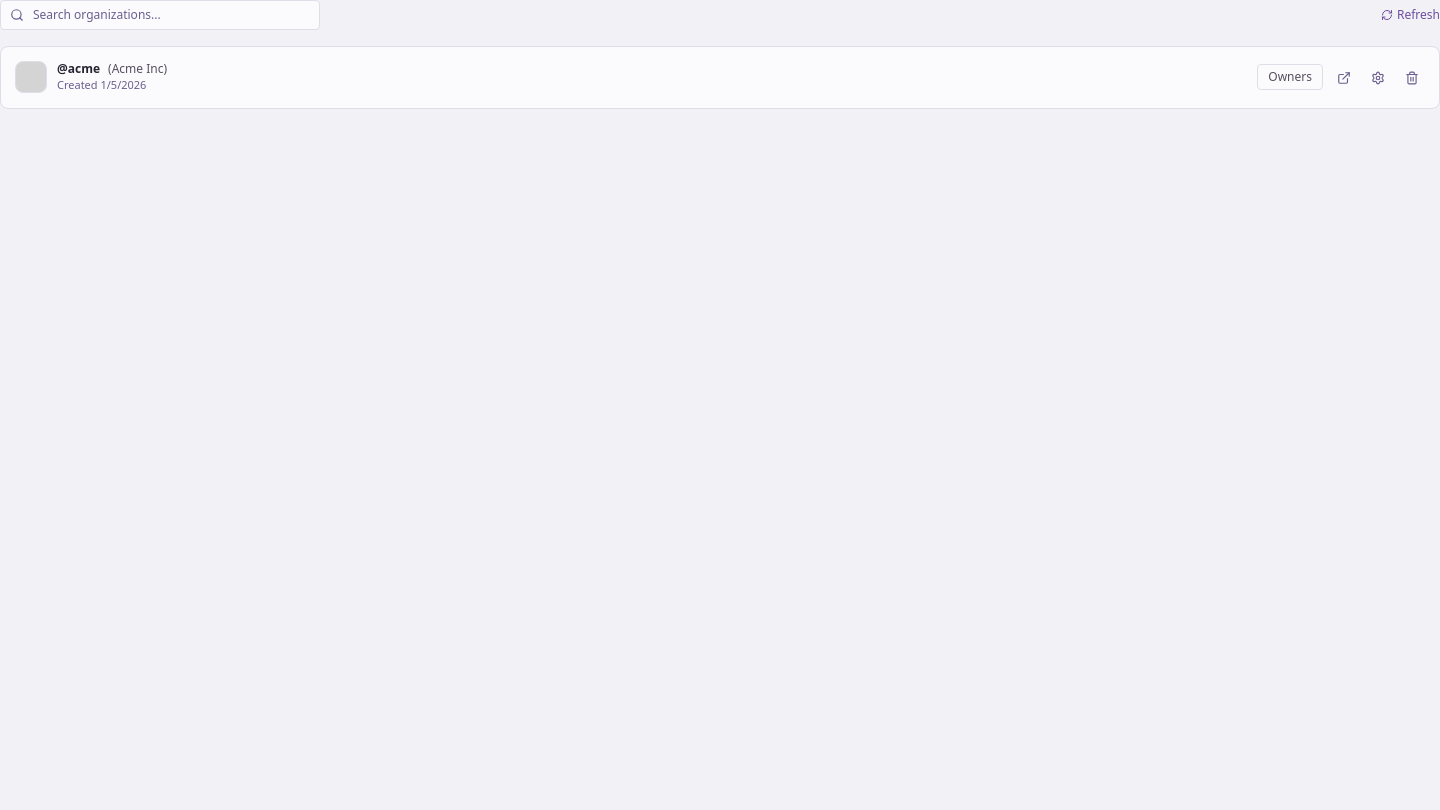
Test: OrganizationsPanel › keeps the organization when the registry refuses the deletion
The width and height of the screenshot is (1440, 810).
Expected: the text "@acme" is shown, left=57, top=61, right=100, bottom=77
Click the button named "Permanently delete @acme": (1412, 77) left=1399, top=63, right=1425, bottom=91
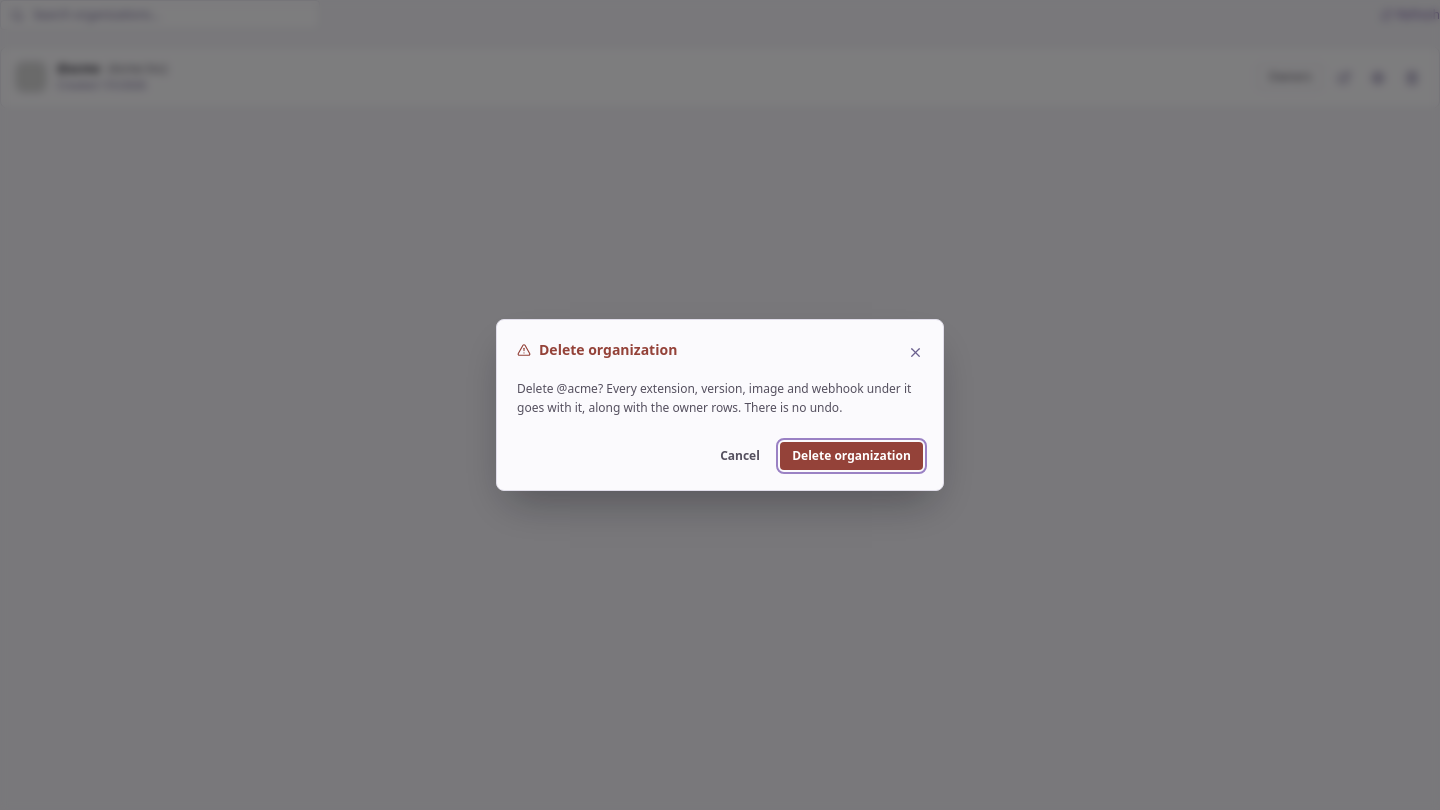
Click the button "Delete organization": (852, 456) left=780, top=442, right=923, bottom=470
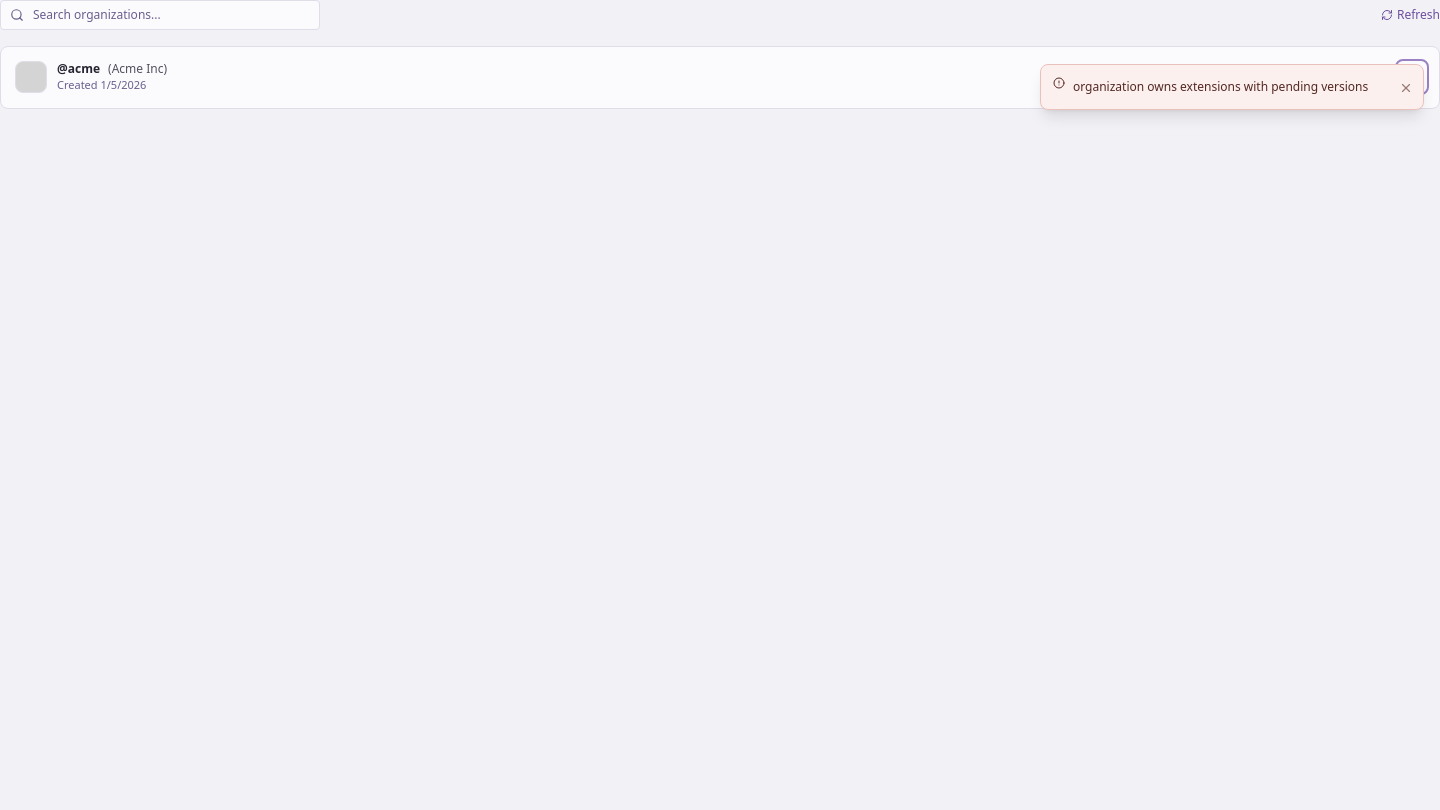
Expected: the text "@acme" is shown, left=57, top=61, right=100, bottom=77
Result: the text "organization owns extensions with pending versions" is shown at left=1073, top=77, right=1389, bottom=96
